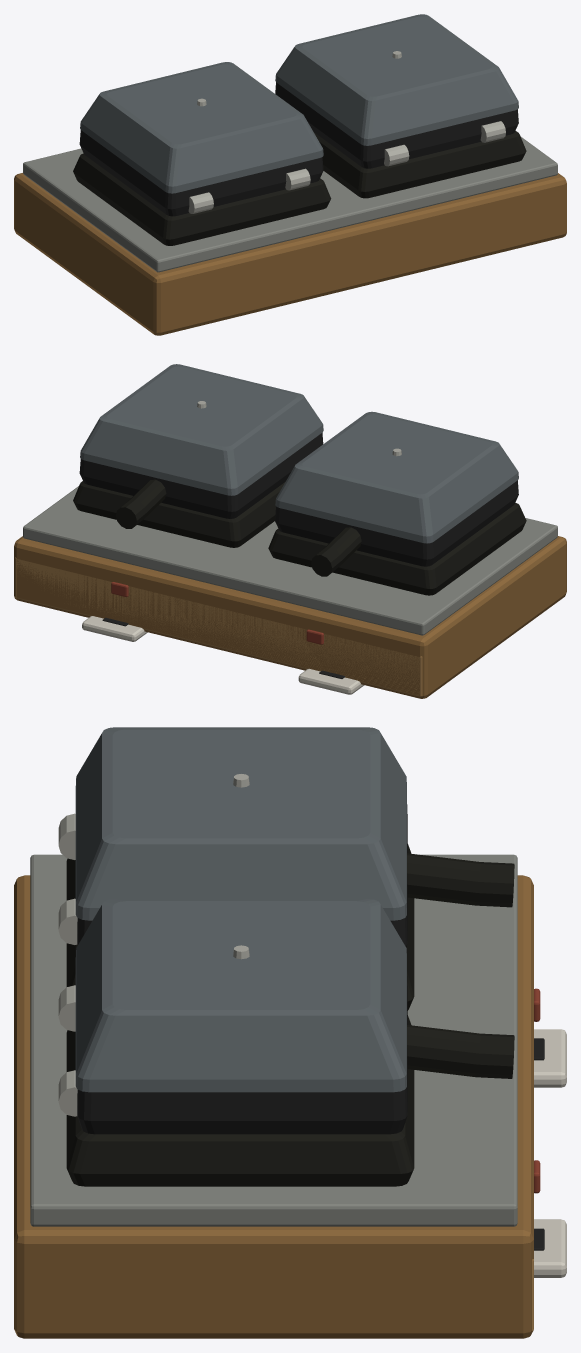
The model's file is iron.glb.
The picture shows the model from 3 angles, top to bottom: view 1: azimuth 30°, elevation 25°; view 2: azimuth 150°, elevation 25°; view 3: azimuth 270°, elevation 25°; orthographic projection. The views are drawn at different scales.
Visible parts, largest first — view 1: iron; view 2: iron; view 3: iron.
Boxes of the visible parts, x1=… form: iron: x1=14, y1=14, x2=566, y2=335; iron: x1=14, y1=364, x2=566, y2=698; iron: x1=14, y1=727, x2=566, y2=1338.
Bounding box in the file's own units: 0.897 × 0.351 × 0.5775.
